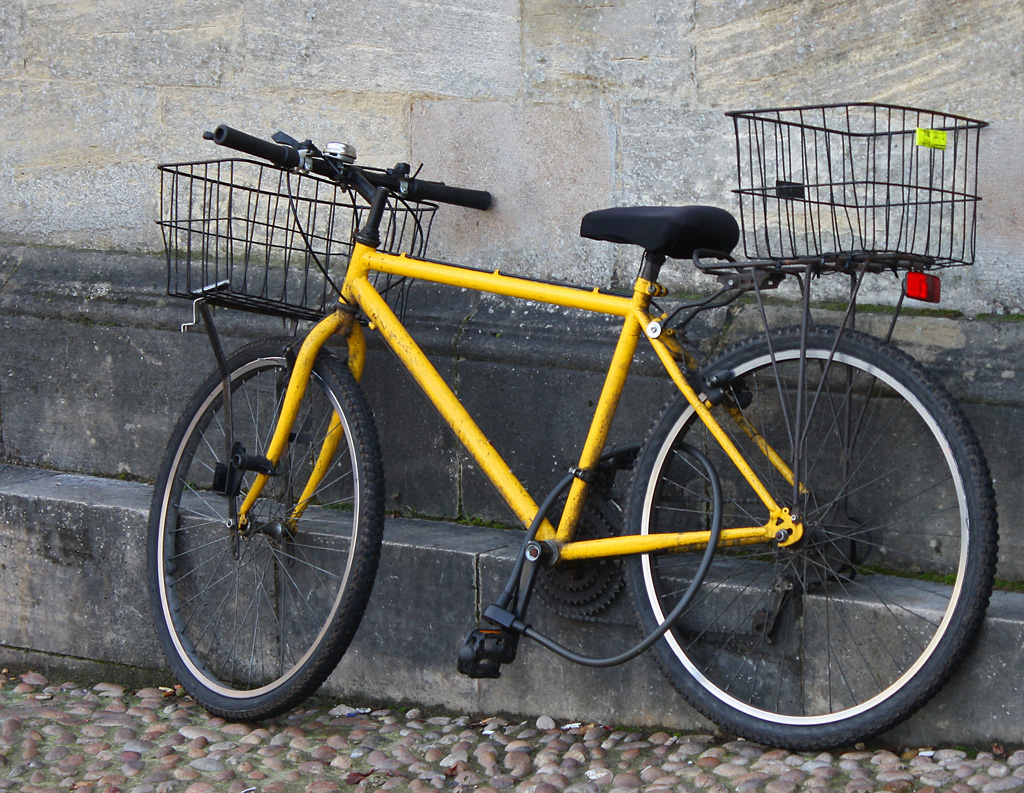bicycle: (122, 102, 1004, 748)
